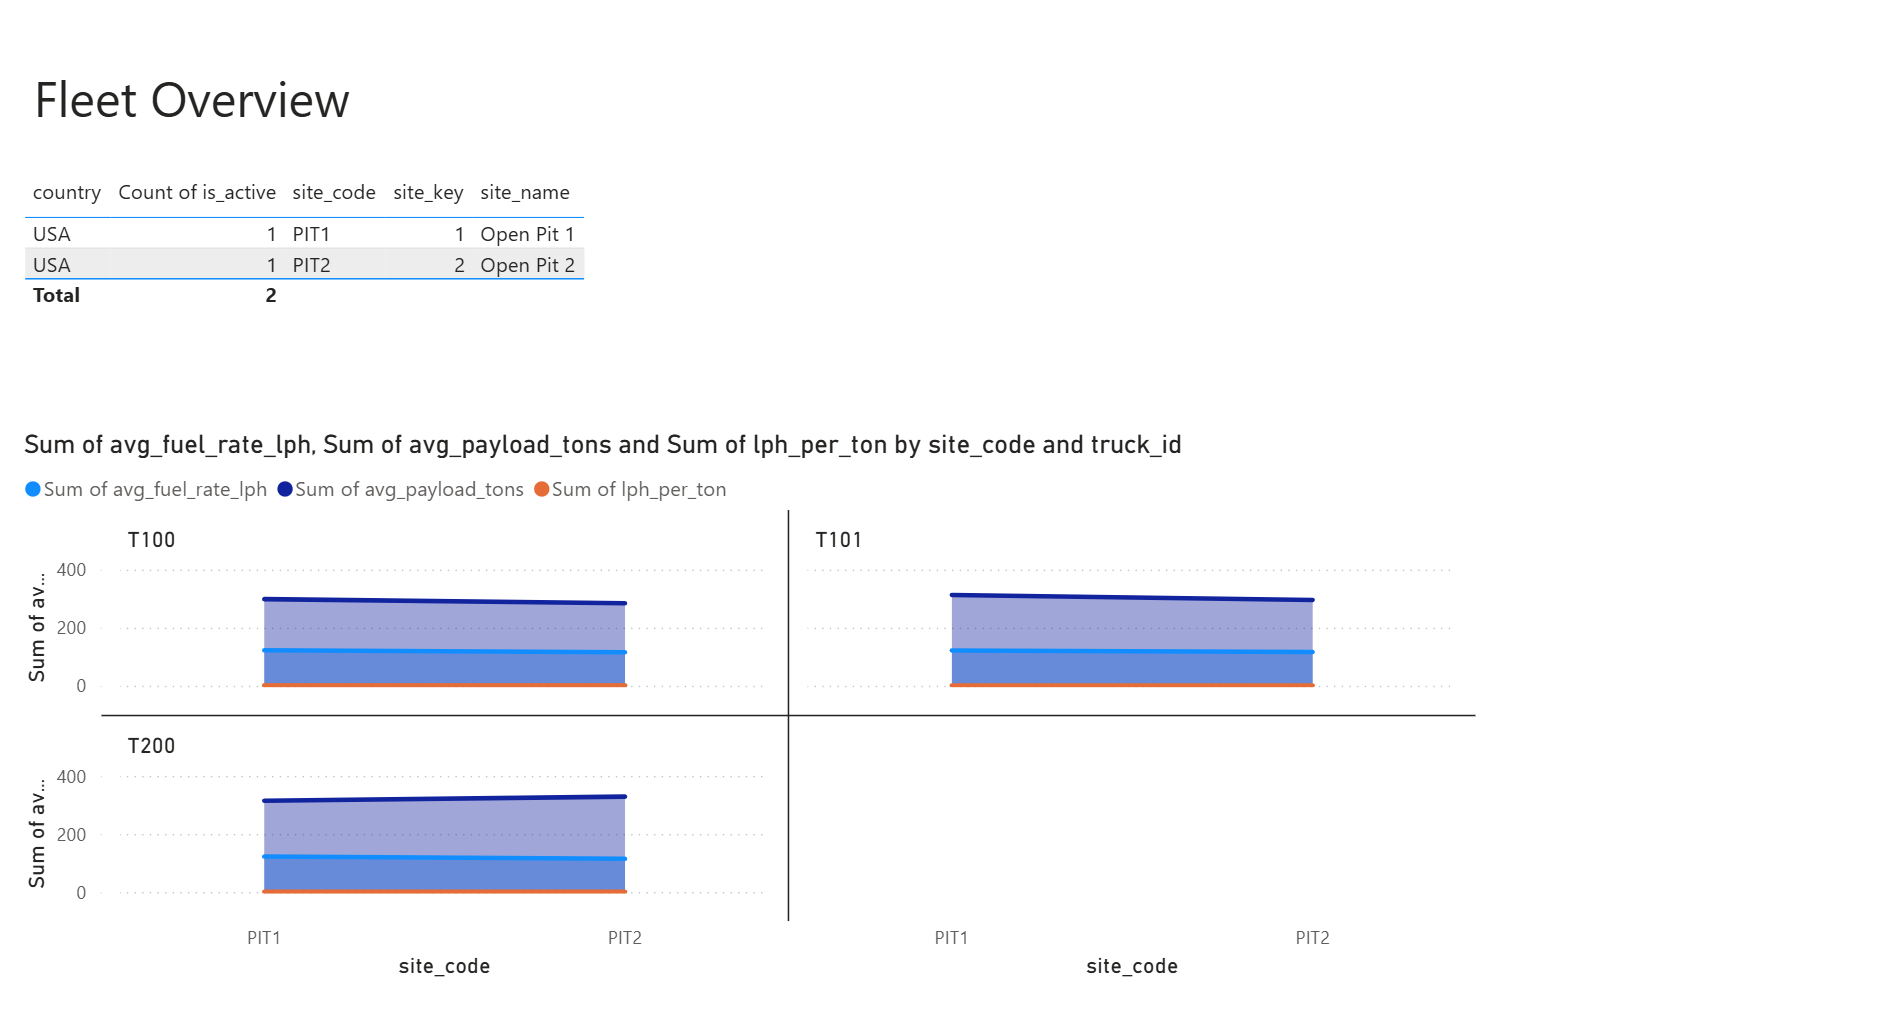

The page's visual inventory and layout, read from the dashboard file:
{"tool":"powerbi","page":{"name":"Fleet Overview","canvas":[1280,720],"ordinal":0},"visuals":[{"type":"tableEx","fields":{"Values":["dim_site.country","dim_site.is_active","dim_site.site_code","dim_site.site_key","dim_site.site_name"]},"box":[34.7,127.6,568,112.6],"z":0},{"type":"areaChart","fields":{"Y":["Sum(vw_kpi_fuel_efficiency.avg_fuel_rate_lph)","Sum(vw_kpi_fuel_efficiency.avg_payload_tons)","Sum(vw_kpi_fuel_efficiency.lph_per_ton)"],"Category":["vw_kpi_fuel_efficiency.site_code"],"Rows":["vw_kpi_fuel_efficiency.truck_id"]},"box":[34.7,298.4,960.7,365.2],"z":1},{"type":"textbox","box":[41.2,54.3,331.8,63.5],"z":2}]}

Visuals, with their boxes on the page's 1280x720 design canvas (x1, y1, x2, y2). These are canvas units, not pixel positions in the 1889x1031 screenshot, which may show the page scaled, cropped or inside an application window:
tableEx - dim_site.country x dim_site.is_active: 35, 128, 603, 240
areaChart - Sum(vw_kpi_fuel_efficiency.avg_fuel_rate_lph) x Sum(vw_kpi_fuel_efficiency.avg_payload_tons): 35, 298, 995, 664
textbox: 41, 54, 373, 118
